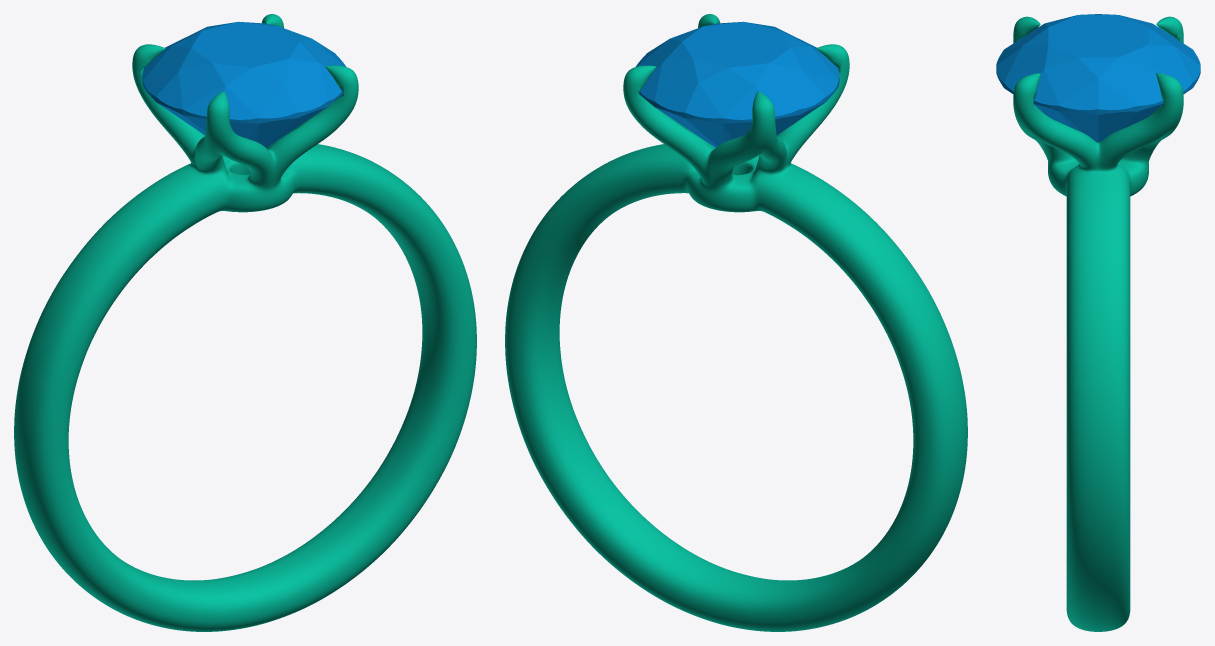
Rendered from BE1435_RD_200ct_RENDER.glb.
3 views of the same model, side by side, from view 1: azimuth 30°, elevation 25°; view 2: azimuth 150°, elevation 25°; view 3: azimuth 270°, elevation 25° (orthographic).
Parts seen in each view (by area): view 1: Metal 01, CS_Diamond_Round; view 2: Metal 01, CS_Diamond_Round; view 3: Metal 01, CS_Diamond_Round.
Part boxes in pixels (left/top/right/bottom): Metal 01: left=14, top=14, right=476, bottom=631; CS_Diamond_Round: left=142, top=21, right=346, bottom=147; Metal 01: left=505, top=14, right=967, bottom=631; CS_Diamond_Round: left=635, top=21, right=839, bottom=147; Metal 01: left=1013, top=16, right=1183, bottom=631; CS_Diamond_Round: left=996, top=14, right=1200, bottom=142.
Bounding box in the file's own units: 20.09 × 24.68 × 8.
